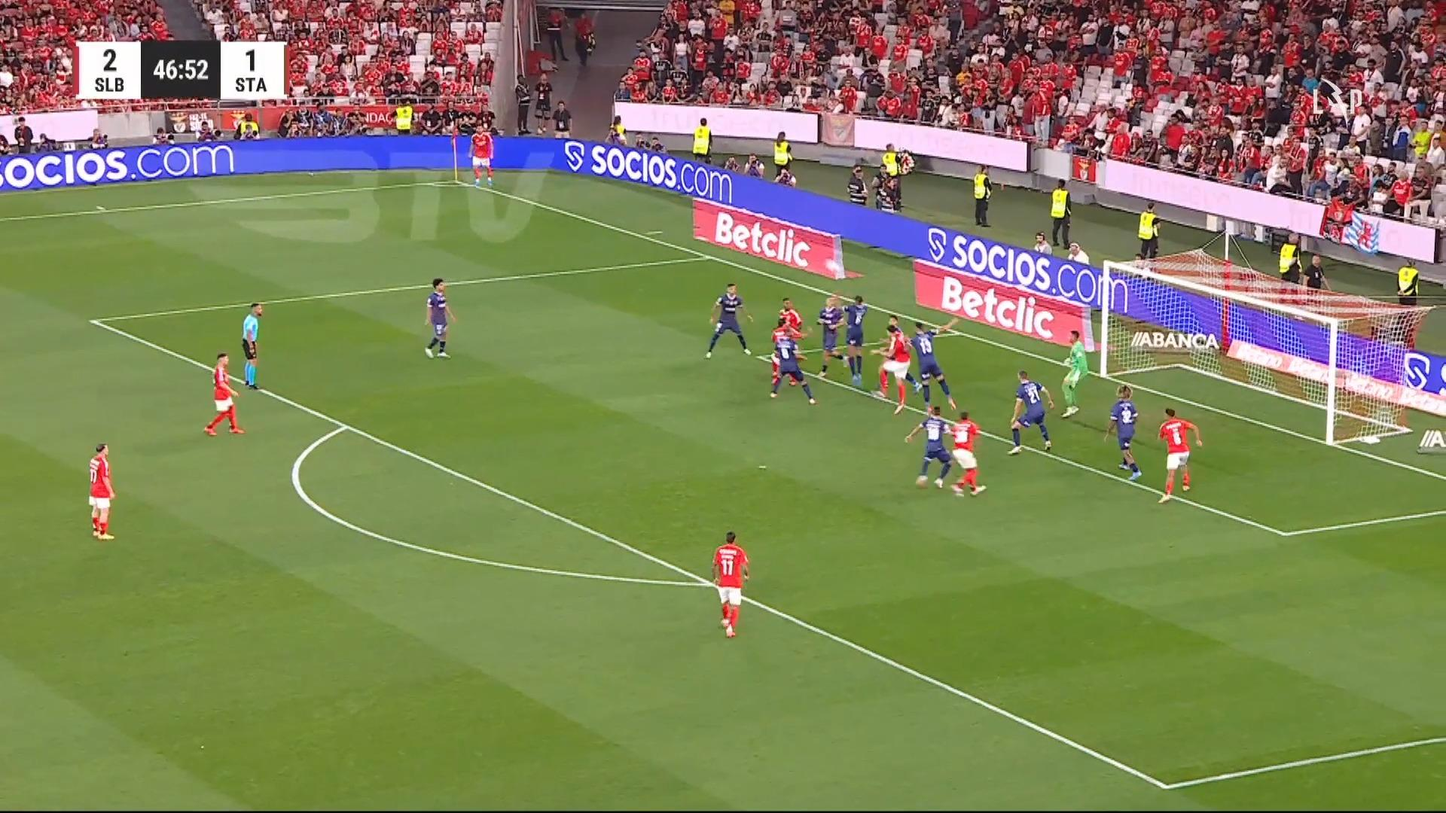goalkeeper: (1058, 328, 1088, 419)
player: (908, 316, 959, 413), (1156, 406, 1202, 503), (710, 530, 750, 638), (870, 317, 914, 415), (1006, 369, 1054, 455), (904, 405, 953, 489), (1103, 383, 1142, 481), (768, 326, 816, 404), (704, 282, 753, 358), (203, 352, 245, 436), (947, 410, 987, 496), (87, 442, 116, 540), (816, 294, 850, 377), (423, 277, 455, 358), (841, 294, 867, 385), (468, 121, 494, 187), (776, 297, 804, 349)
referee: (240, 302, 264, 389)
